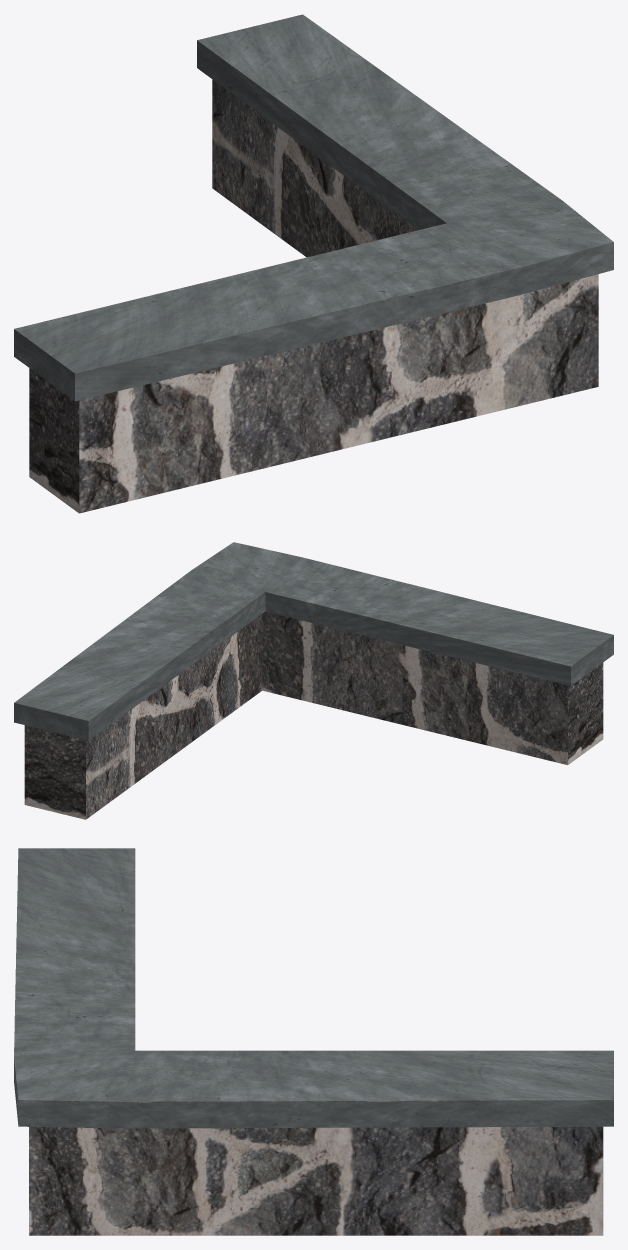
Rendered from Courtyard Halfwall L.fbx.
The picture shows the model from 3 angles, top to bottom: view 1: azimuth 30°, elevation 25°; view 2: azimuth 150°, elevation 25°; view 3: azimuth 270°, elevation 25°; orthographic projection. The views are drawn at different scales.
Visible parts, largest first — view 1: CourtyardCorner halfwall L_Baked; view 2: CourtyardCorner halfwall L_Baked; view 3: CourtyardCorner halfwall L_Baked.
Part boxes in pixels (bbox=[...]): CourtyardCorner halfwall L_Baked: bbox=[14, 14, 613, 513]; CourtyardCorner halfwall L_Baked: bbox=[14, 542, 613, 819]; CourtyardCorner halfwall L_Baked: bbox=[14, 848, 613, 1235].
Size of the model in its own units: 313 by 80.72 by 313.
1 material, 1 textured.
